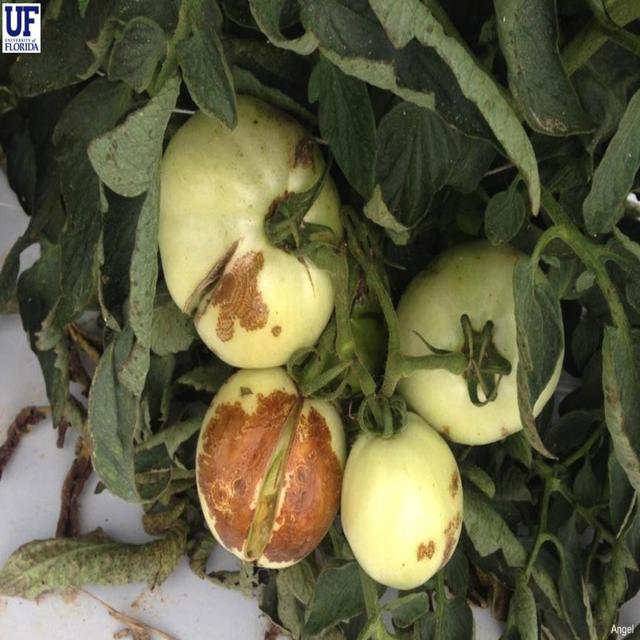Spotted wilt Virus Fruit: (84, 120, 320, 334)
